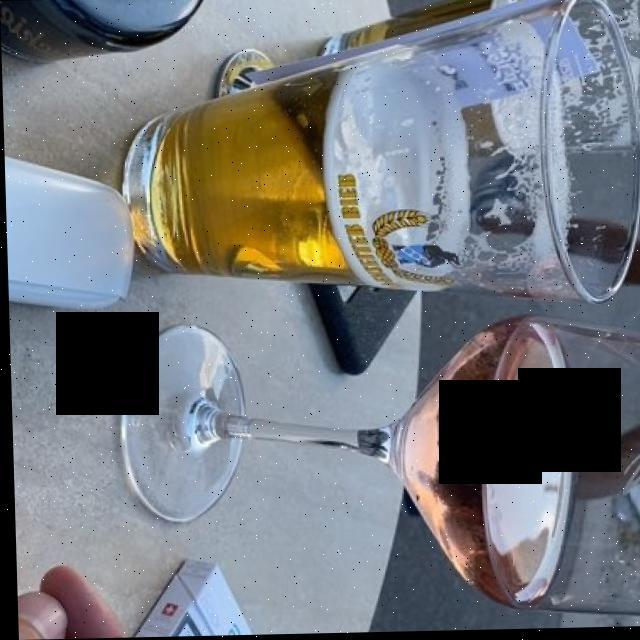beer: (152, 85, 404, 276)
wine: (404, 316, 582, 613)
